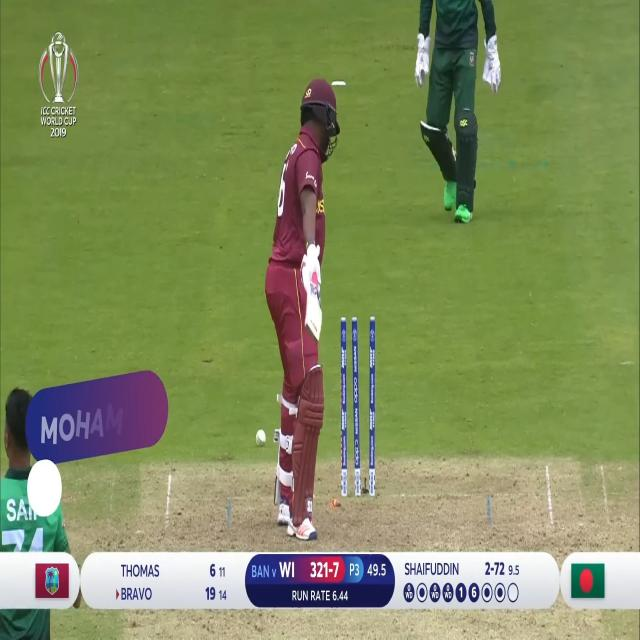ball: (252, 424, 271, 451)
